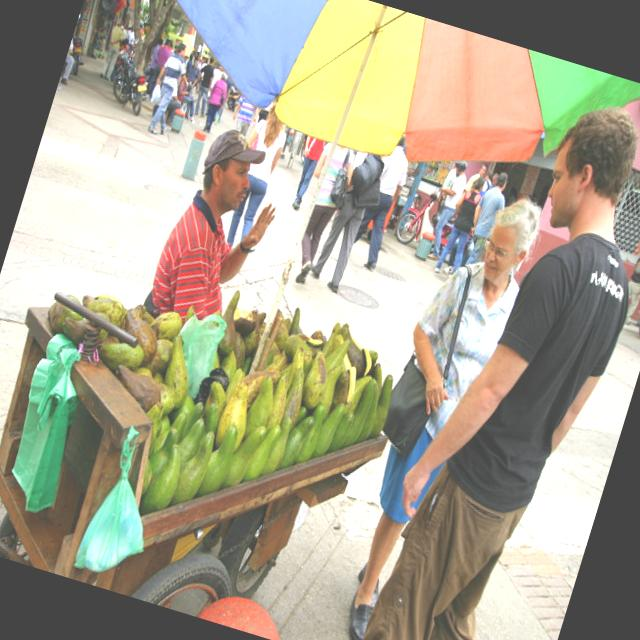Vehicle: (390, 169, 464, 257), (103, 42, 161, 118), (629, 277, 640, 341)
